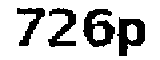2: (46, 7, 78, 52)
6: (79, 9, 114, 50)
7: (10, 5, 47, 52)
p: (115, 13, 145, 60)
